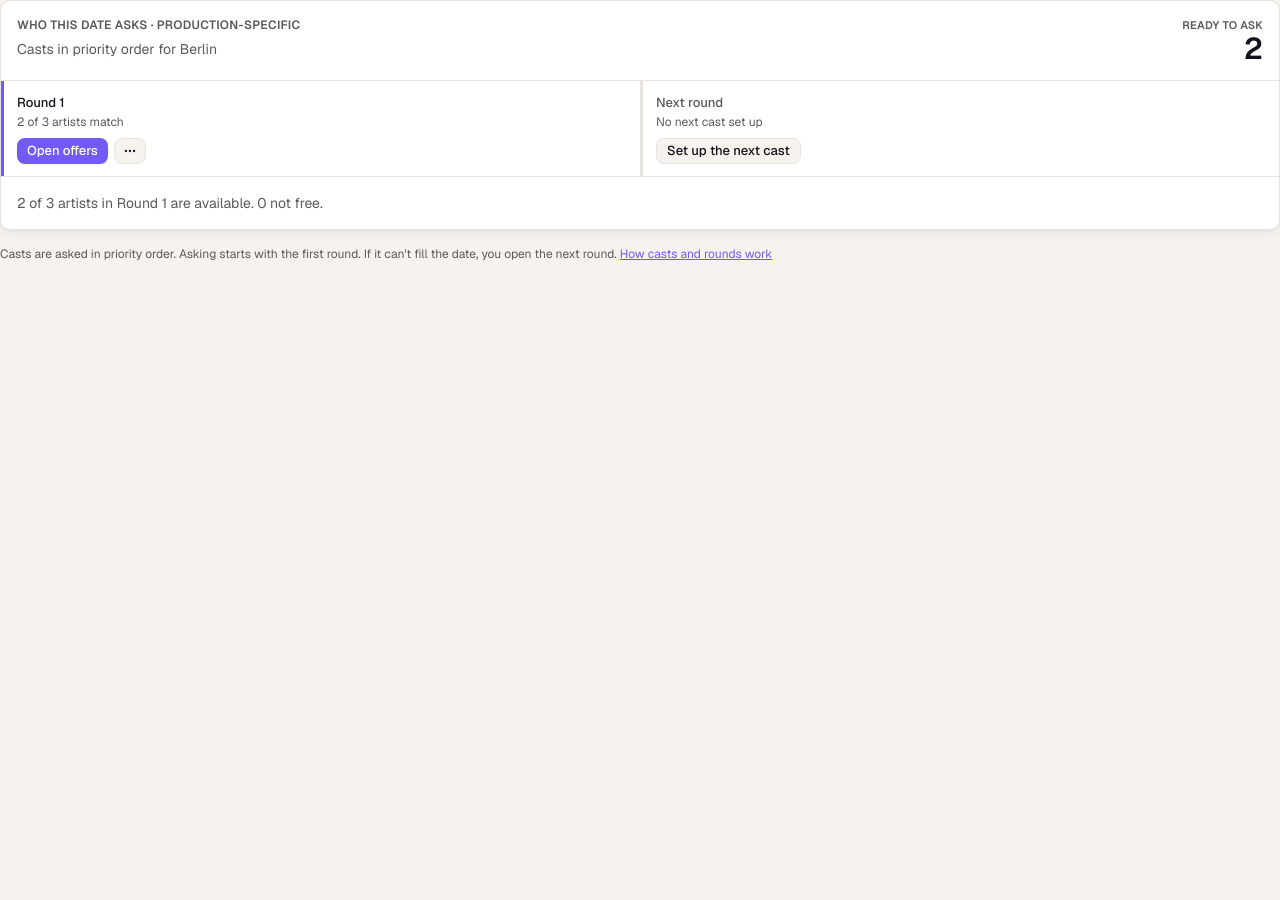
Test case: TierTimeline › confirm copy reflects immediate offer delivery
This screenshot has width=1280, height=900.
Click the button "Open offers". click: coordinates (62, 151)
box: top-left (17, 138), bottom-right (108, 164)
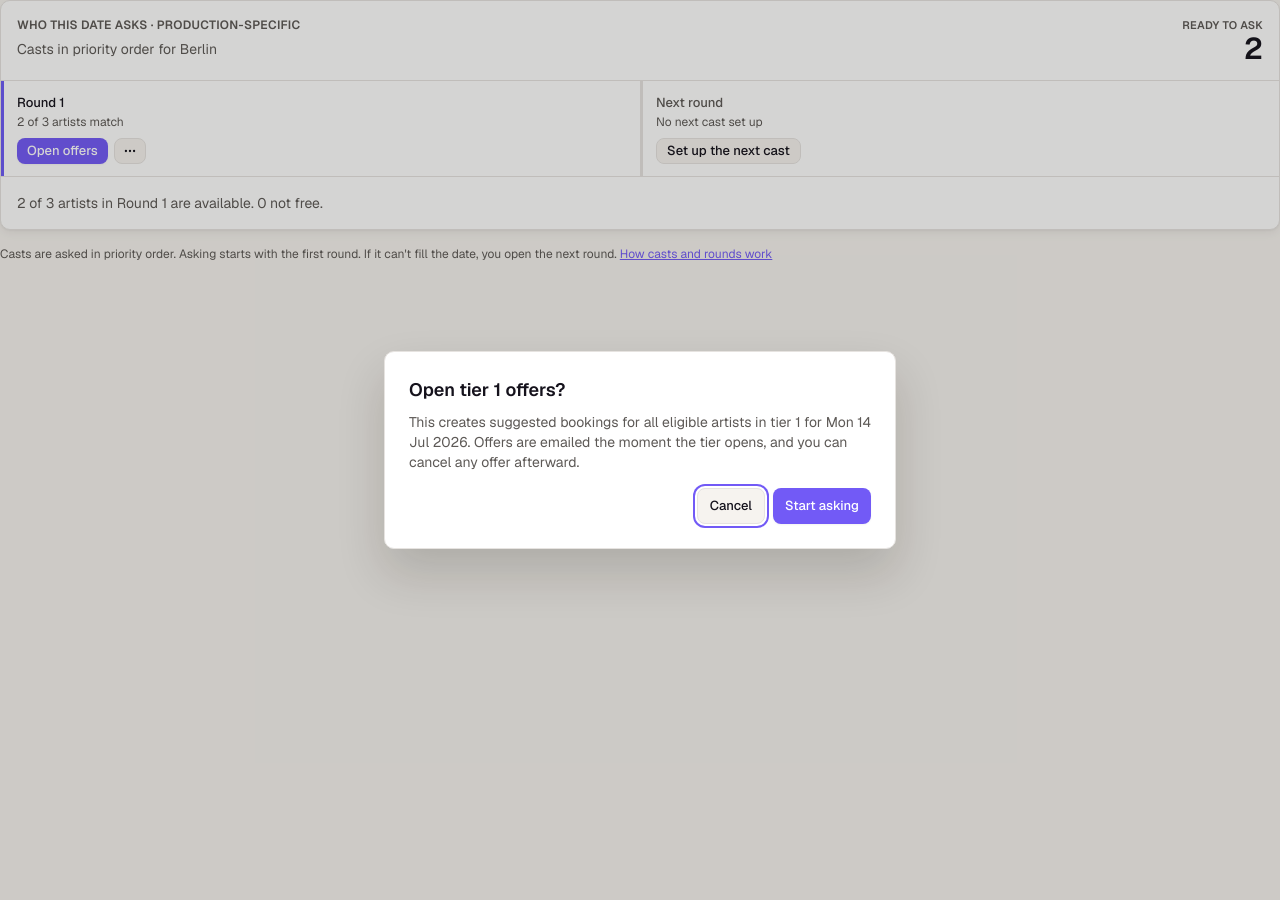
Result: the text "emailed the moment the tier opens" is shown at top-left (409, 413), bottom-right (871, 471)
